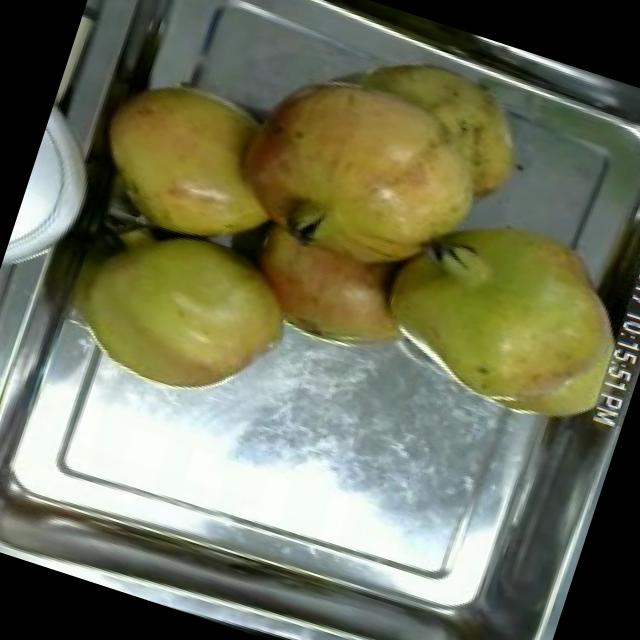fruit: (192, 2, 540, 323), (402, 189, 640, 457), (52, 200, 320, 428), (68, 40, 312, 276)
